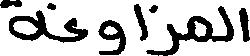X: (0, 0, 44, 45), (150, 0, 178, 55), (99, 15, 124, 55), (188, 11, 210, 46), (135, 0, 148, 55), (65, 13, 86, 46), (220, 1, 233, 46), (240, 3, 249, 46)
